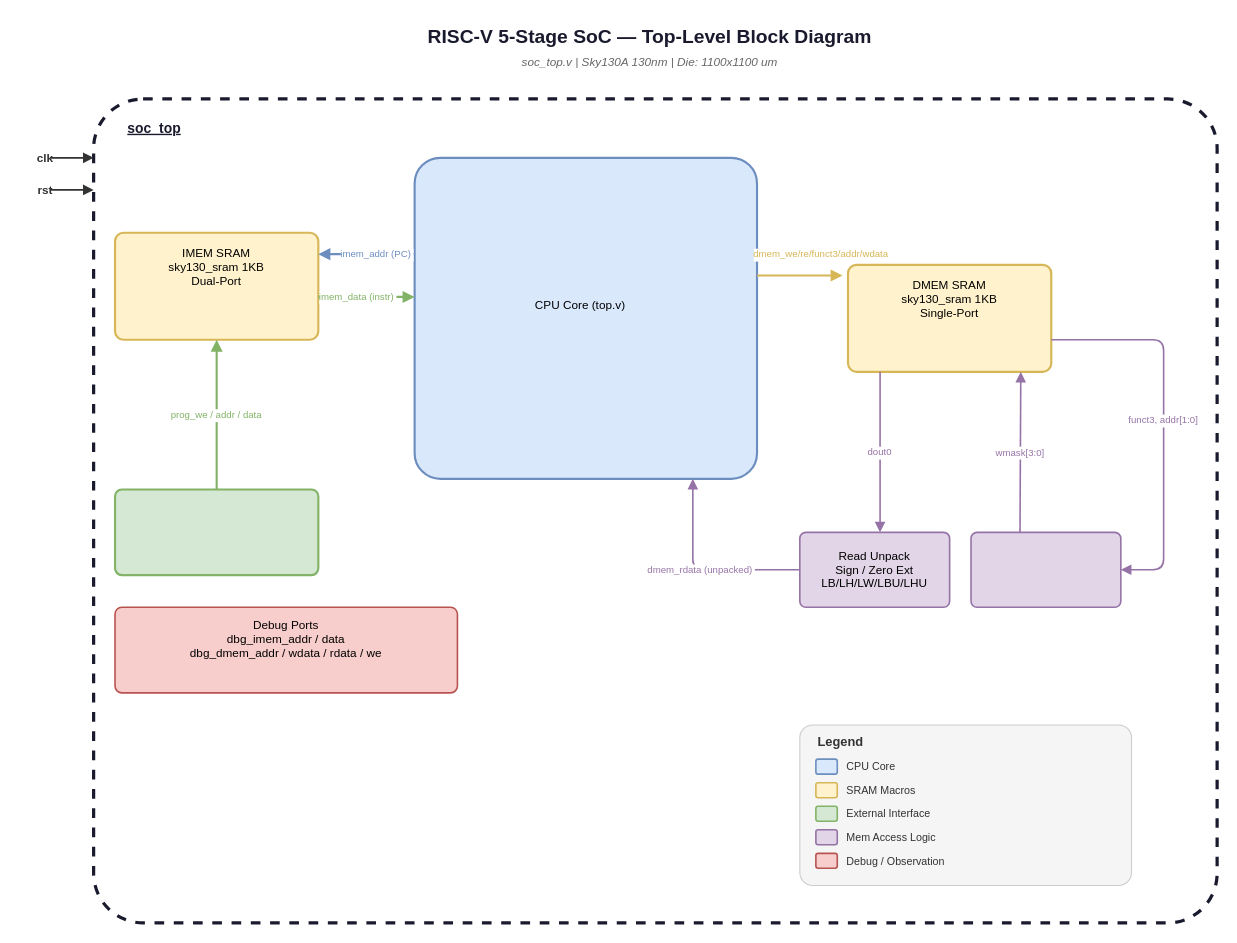
This 1237x943 diagram has some shape labels left out. Here are the shapes that lost their labels. From the top down, the centre of each, then its label:
(x=216, y=532): Prog Interface 3-wire frontdoor prog_we / addr / data
(x=1045, y=569): Write Mask Decoder SB / SH / SW wmask[3:0]
